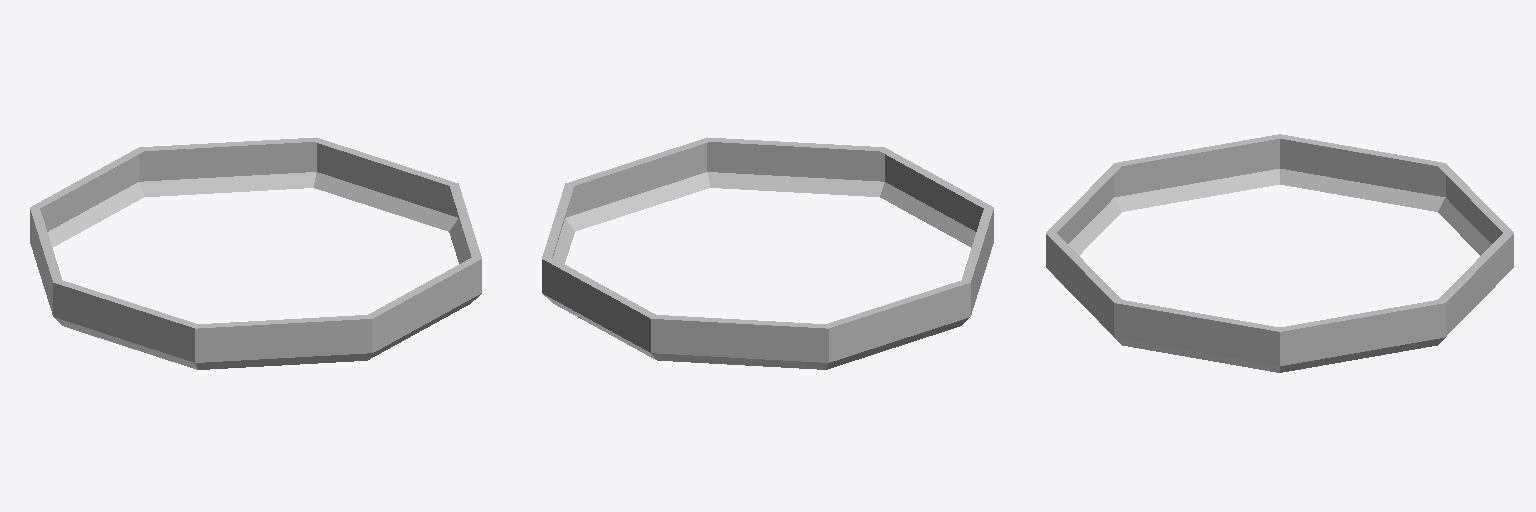
Rendered from octagon_w.obj.
3 views of the same model, side by side, from view 1: azimuth 30°, elevation 25°; view 2: azimuth 150°, elevation 25°; view 3: azimuth 270°, elevation 25° (orthographic).
Visible parts, largest first — view 1: polySurface2 Mesh1; view 2: polySurface2 Mesh1; view 3: polySurface2 Mesh1.
Boxes of the visible parts, <box> form: polySurface2 Mesh1: <box>30,137,481,369</box>; polySurface2 Mesh1: <box>542,137,993,369</box>; polySurface2 Mesh1: <box>1046,134,1513,372</box>.
Bounding box in the file's own units: 23.81 × 2.57 × 23.81.